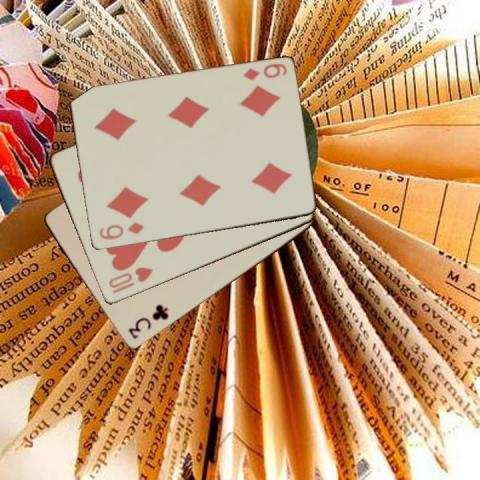10h: (105, 264, 155, 295)
3c: (125, 302, 170, 342)
6d: (96, 219, 145, 241), (240, 61, 288, 82)
